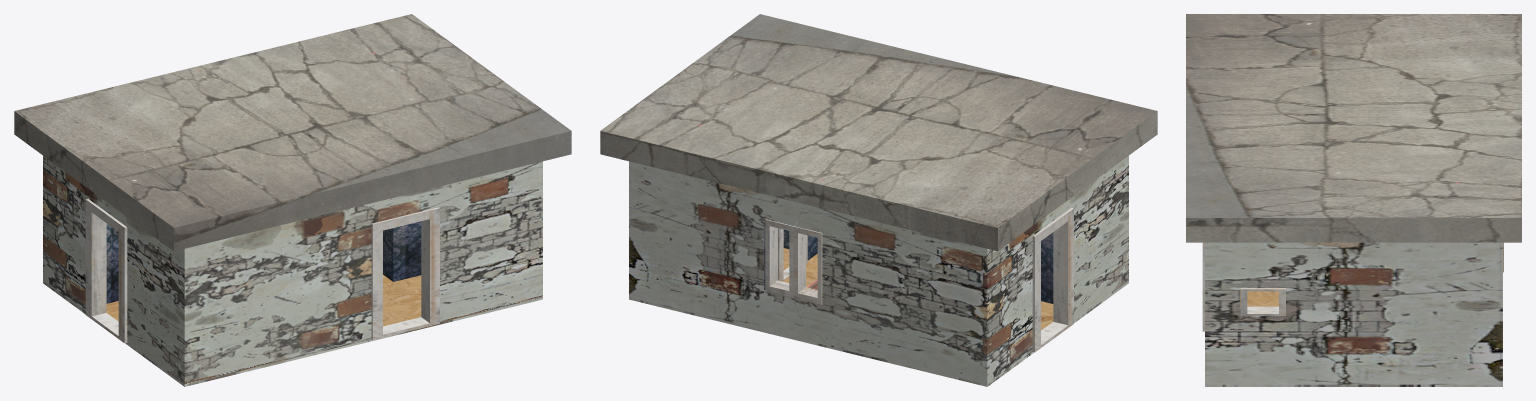
The model's file is House ver1.FBX.
3 renders of one model, left to right at view 1: azimuth 30°, elevation 25°; view 2: azimuth 150°, elevation 25°; view 3: azimuth 270°, elevation 25°, orthographic. The views are drawn at different scales.
Parts seen in each view (by area): view 1: House ver3; view 2: House ver3; view 3: House ver3.
Boxes of the visible parts, left/top/right/bottom form: House ver3: left=14, top=14, right=571, bottom=386; House ver3: left=600, top=14, right=1157, bottom=386; House ver3: left=1186, top=14, right=1521, bottom=386.
Size of the model in its own units: 586 by 240 by 408.
